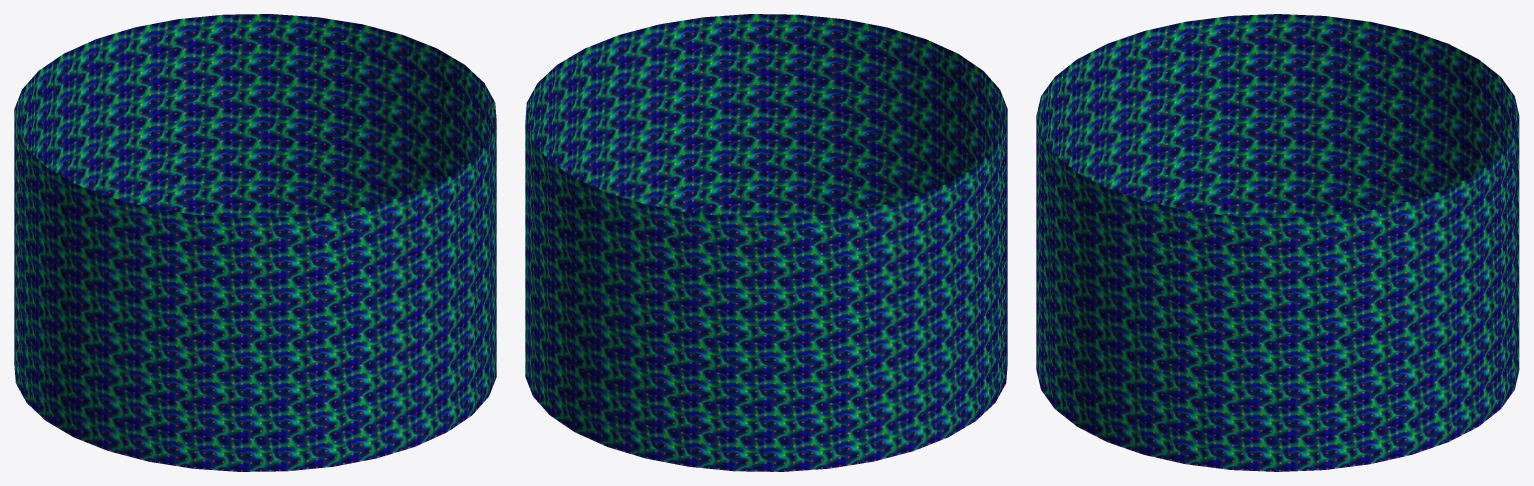
File: pref_sce_pokemobox_base01_lv3.fbx
3 views of the same model, side by side, from view 1: azimuth 30°, elevation 25°; view 2: azimuth 150°, elevation 25°; view 3: azimuth 270°, elevation 25° (orthographic).
Parts seen in each view (by area): view 1: sm_pkmbox_base_ground01wall; view 2: sm_pkmbox_base_ground01wall; view 3: sm_pkmbox_base_ground01wall.
Part boxes in pixels (x1=…): sm_pkmbox_base_ground01wall: x1=14, y1=14, x2=496, y2=471; sm_pkmbox_base_ground01wall: x1=525, y1=14, x2=1007, y2=471; sm_pkmbox_base_ground01wall: x1=1036, y1=14, x2=1519, y2=471.
Bounding box in the file's own units: 31.16 × 18.07 × 31.17.
Materials: 2 (2 with a texture image).
